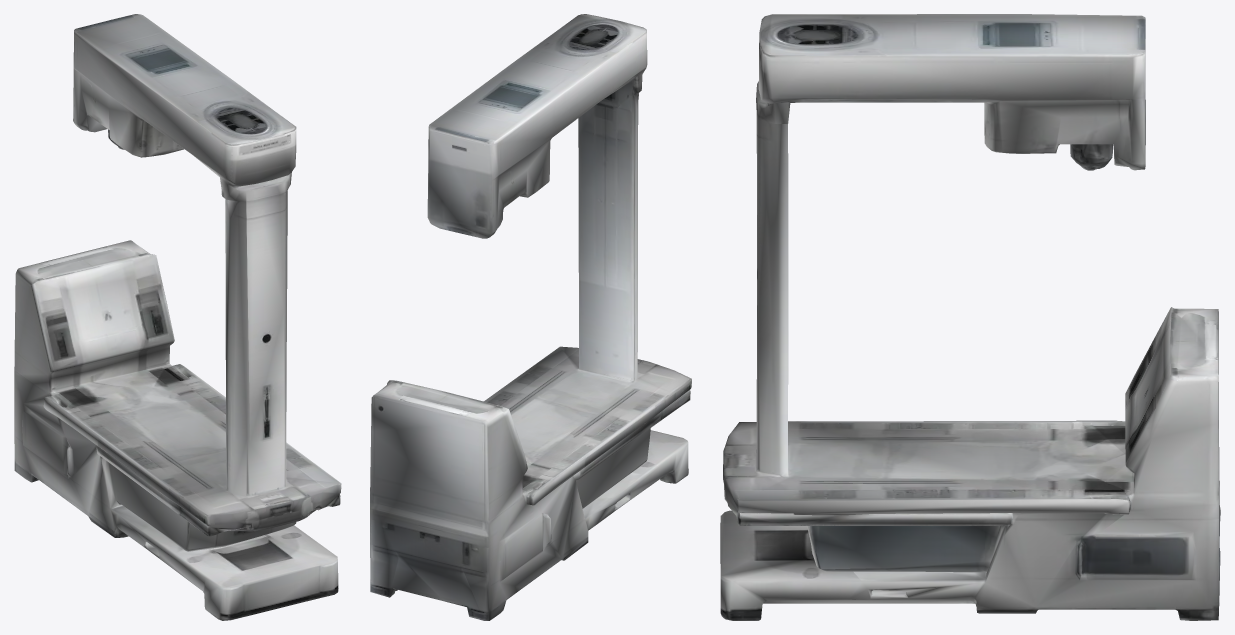
File: xray_machine.glb
3 views of the same model, side by side, from view 1: azimuth 30°, elevation 25°; view 2: azimuth 150°, elevation 25°; view 3: azimuth 270°, elevation 25° (orthographic). The views are drawn at different scales.
Visible parts, largest first — view 1: Object_4; view 2: Object_4; view 3: Object_4.
Part boxes in pixels (box(x1,y1,x2,y2)): Object_4: box(14, 14, 341, 620); Object_4: box(370, 14, 691, 620); Object_4: box(720, 14, 1220, 620).
Bounding box in the file's own units: 0.6281 × 2 × 1.65.
1 material, 1 textured.
